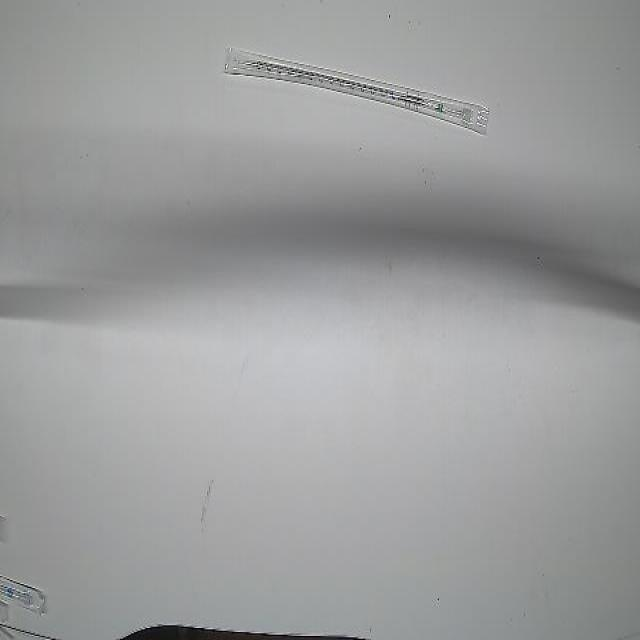Serelogical Pipet 2 mL: (224, 38, 491, 142)
